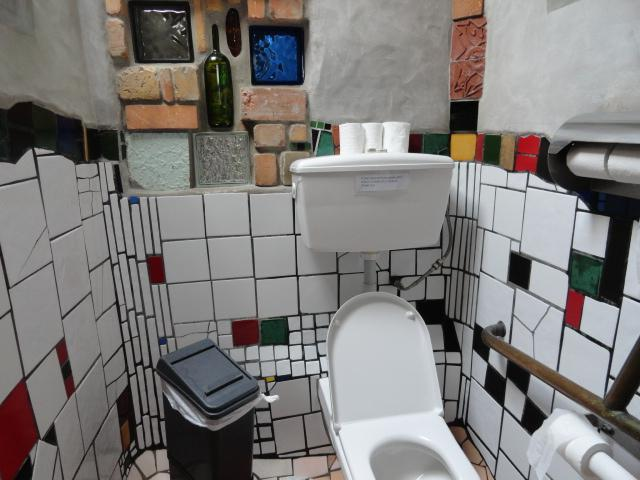Bote de Basura: (152, 345, 259, 477)
Sanitario: (321, 288, 478, 477)
